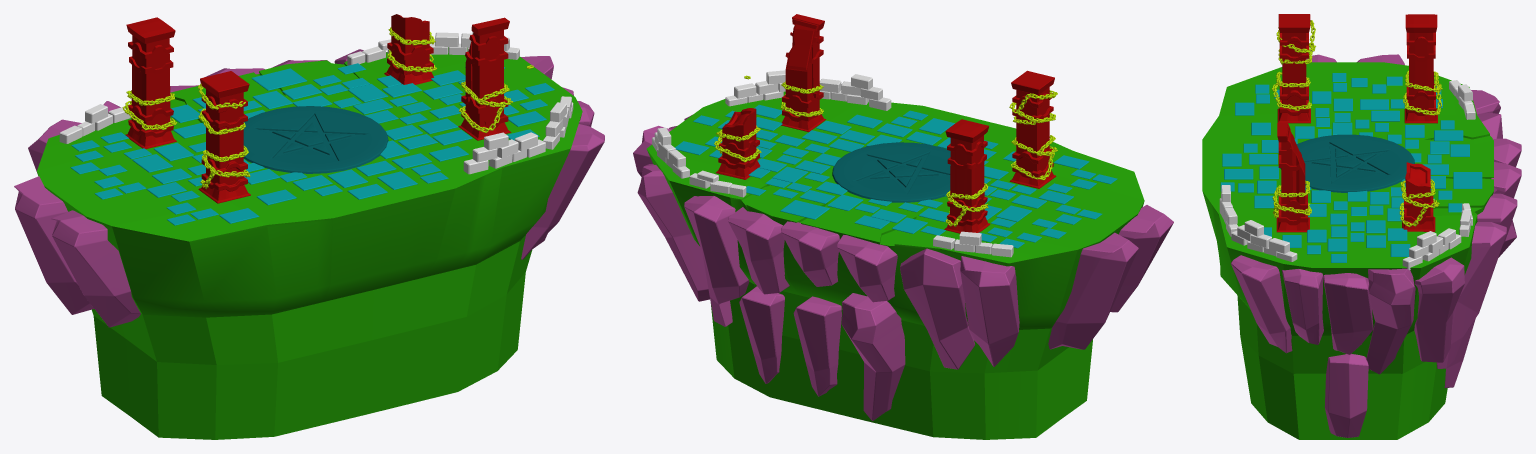
File: Mode_Arena.fbx
The picture shows the model from 3 angles, left to right: view 1: azimuth 30°, elevation 25°; view 2: azimuth 150°, elevation 25°; view 3: azimuth 270°, elevation 25°; orthographic projection. The views are drawn at different scales.
Parts seen in each view (by area): view 1: Sol5, stars2, Arena_Rocks15, Pilier5, Pilier4, Arena_Rocks14, Pilier, Arena_Rocks16, Pilier2, Bricks4, Bricks3, Bricks2 (+4 smaller); view 2: Sol5, stars2, Arena_Rocks12, Arena_Rocks14, Arena_Rocks10, Arena_Rocks13, Arena_Rocks, Pilier5, Pilier, Arena_Rocks1, Pilier4, Arena_Rocks9 (+13 smaller); view 3: Sol5, stars2, Arena_Rocks2, Arena_Rocks1, Arena_Rocks, Arena_Rocks5, Arena_Rocks16, Arena_Rocks3, Pilier5, Pilier4, Pilier, Arena_Rocks4 (+19 smaller).
Part boxes in pixels (box(x1,y1,x2,y2)): Sol5: box(37, 47, 582, 439); stars2: box(243, 106, 388, 173); Arena_Rocks15: box(51, 210, 140, 327); Pilier5: box(125, 17, 176, 148); Pilier4: box(198, 71, 250, 203); Arena_Rocks14: box(14, 176, 93, 314); Pilier: box(458, 17, 511, 140); Arena_Rocks16: box(521, 124, 604, 259); Pilier2: box(384, 14, 433, 84); Bricks4: box(463, 132, 545, 174); Bricks3: box(59, 104, 131, 143); Bricks2: box(429, 32, 519, 59); Sol5: box(646, 91, 1144, 439); stars2: box(832, 142, 950, 202); Arena_Rocks12: box(900, 248, 974, 369); Arena_Rocks14: box(1048, 232, 1138, 349); Arena_Rocks10: box(841, 293, 905, 420); Arena_Rocks13: box(960, 256, 1019, 366); Arena_Rocks: box(684, 196, 749, 326); Pilier5: box(944, 119, 990, 233); Pilier: box(781, 14, 825, 132); Arena_Rocks1: box(637, 164, 709, 301); Pilier4: box(1009, 70, 1056, 188); Arena_Rocks9: box(793, 296, 841, 396); Sol5: box(1202, 62, 1493, 439); stars2: box(1280, 134, 1414, 192); Arena_Rocks2: box(1366, 268, 1415, 374); Arena_Rocks1: box(1414, 257, 1464, 362); Arena_Rocks: box(1436, 222, 1506, 368); Arena_Rocks5: box(1324, 354, 1368, 437); Arena_Rocks16: box(1231, 255, 1292, 353); Arena_Rocks3: box(1323, 273, 1373, 354); Pilier5: box(1404, 14, 1437, 123); Pilier4: box(1277, 14, 1310, 123); Pilier: box(1276, 123, 1309, 232); Arena_Rocks4: box(1282, 269, 1323, 344).
Size of the model in its own units: 0.5765 by 0.3485 by 0.3412.
